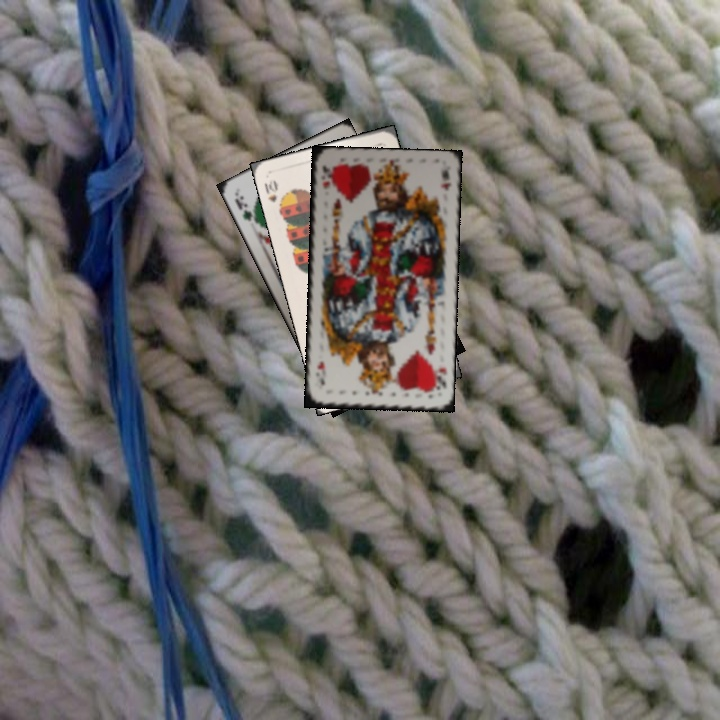GK: (231, 191, 260, 226)
HK: (429, 364, 450, 394), (318, 162, 335, 192)
S10: (260, 176, 286, 213)
